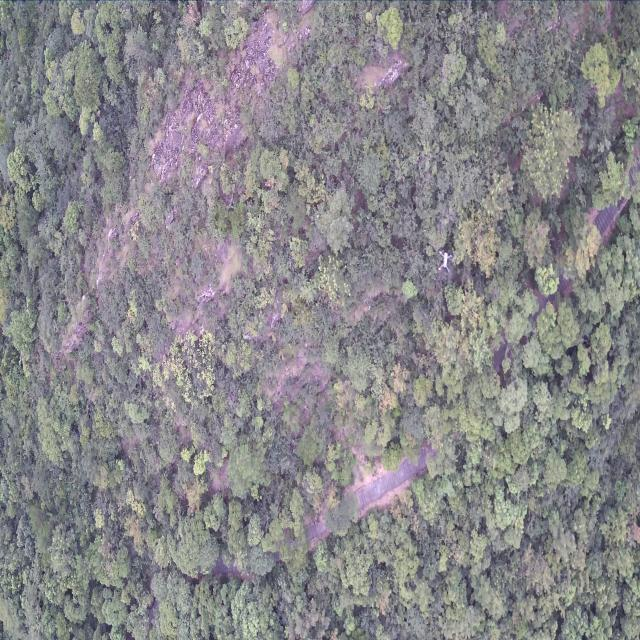drone: (438, 251, 452, 273)
